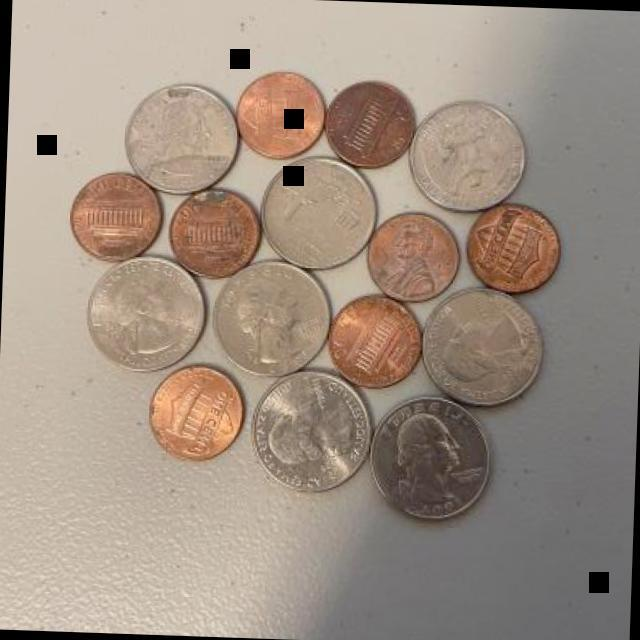Penny: (322, 290, 432, 394), (144, 359, 245, 466), (464, 200, 566, 298), (168, 183, 262, 284), (67, 167, 164, 262), (324, 74, 421, 168), (365, 203, 460, 297), (233, 67, 327, 162)
Quarter: (372, 392, 496, 522), (208, 256, 336, 381), (245, 368, 374, 492), (82, 250, 210, 374), (420, 283, 549, 405), (256, 152, 382, 276), (410, 89, 532, 213), (120, 81, 244, 195)
